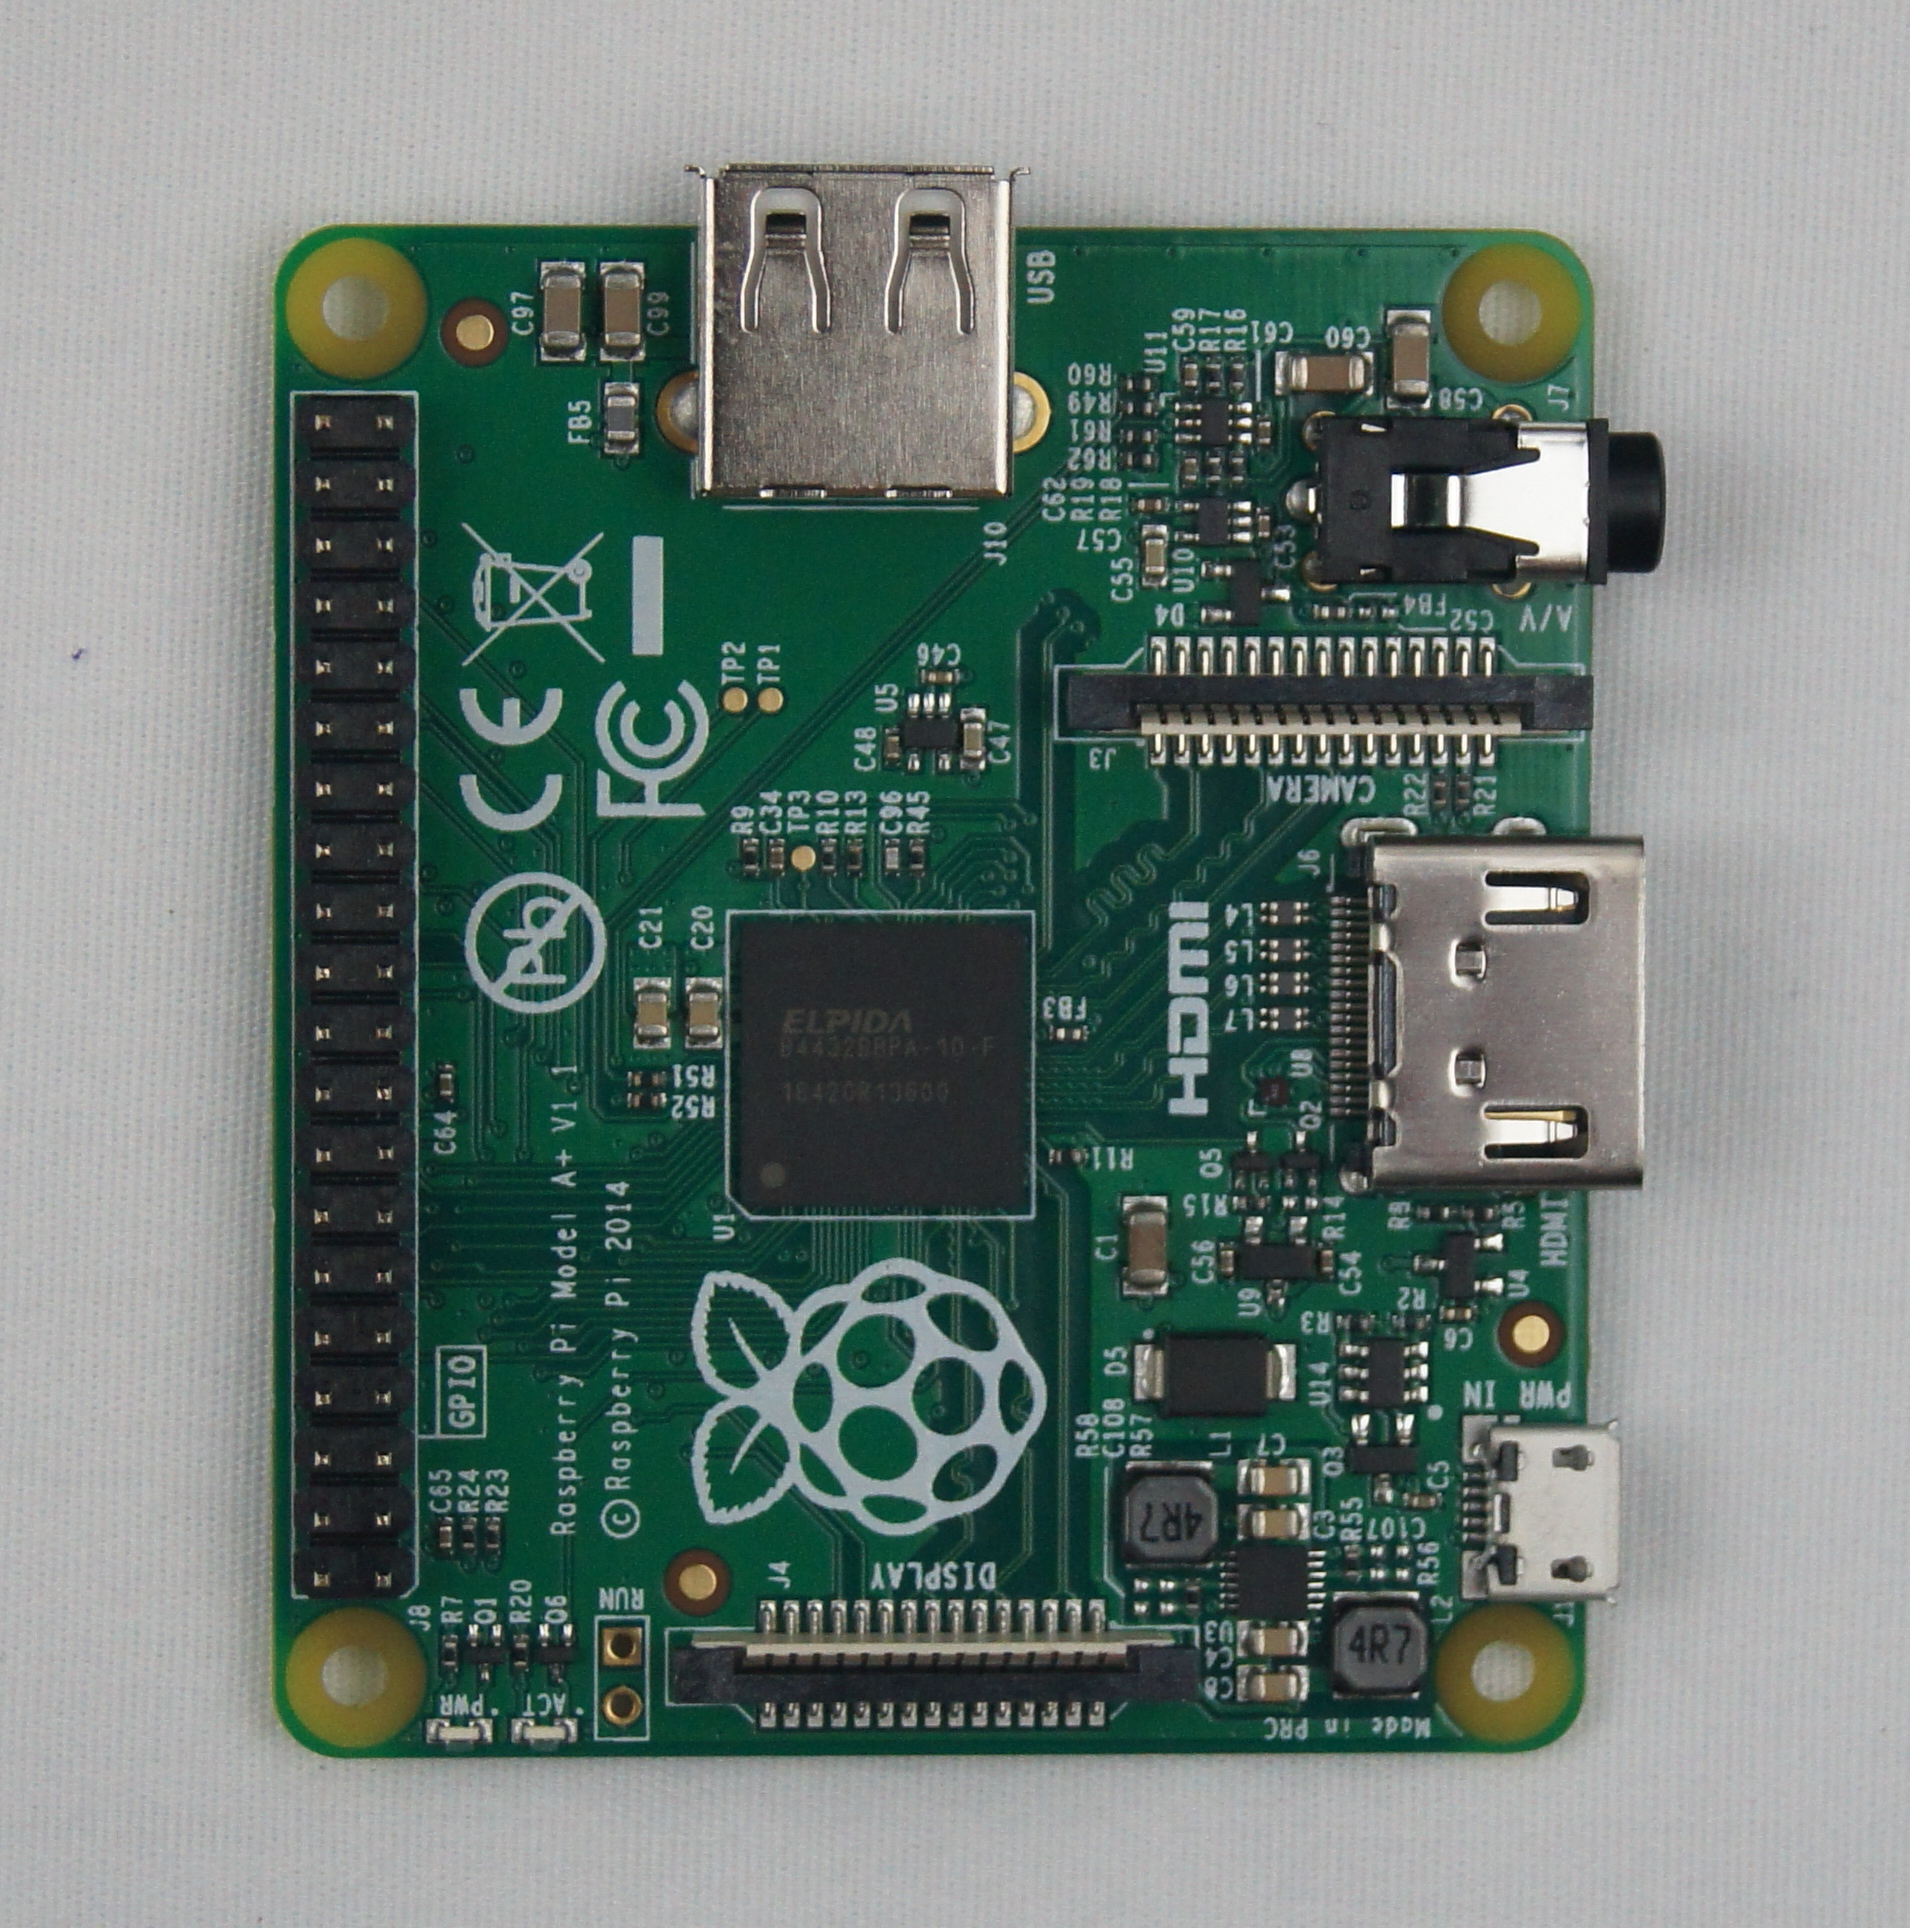resistor: (1415, 1202, 1452, 1221), (1230, 357, 1249, 392), (507, 1639, 528, 1671), (1392, 1314, 1429, 1331), (1233, 1193, 1270, 1211), (1462, 1204, 1495, 1223), (1203, 453, 1223, 485), (1228, 453, 1247, 485), (845, 843, 866, 871), (441, 1638, 458, 1671), (1121, 376, 1154, 394), (631, 1090, 665, 1107), (1123, 397, 1153, 416), (1123, 451, 1154, 469), (633, 1071, 665, 1088), (1182, 1583, 1202, 1611), (458, 1520, 476, 1550), (1342, 1314, 1371, 1331), (1055, 1148, 1086, 1163), (1432, 779, 1448, 810), (910, 842, 925, 873), (483, 1522, 500, 1550), (1207, 360, 1224, 388), (1125, 427, 1154, 443), (1343, 1552, 1361, 1578), (1455, 779, 1471, 807), (743, 840, 757, 871), (822, 842, 836, 871)
